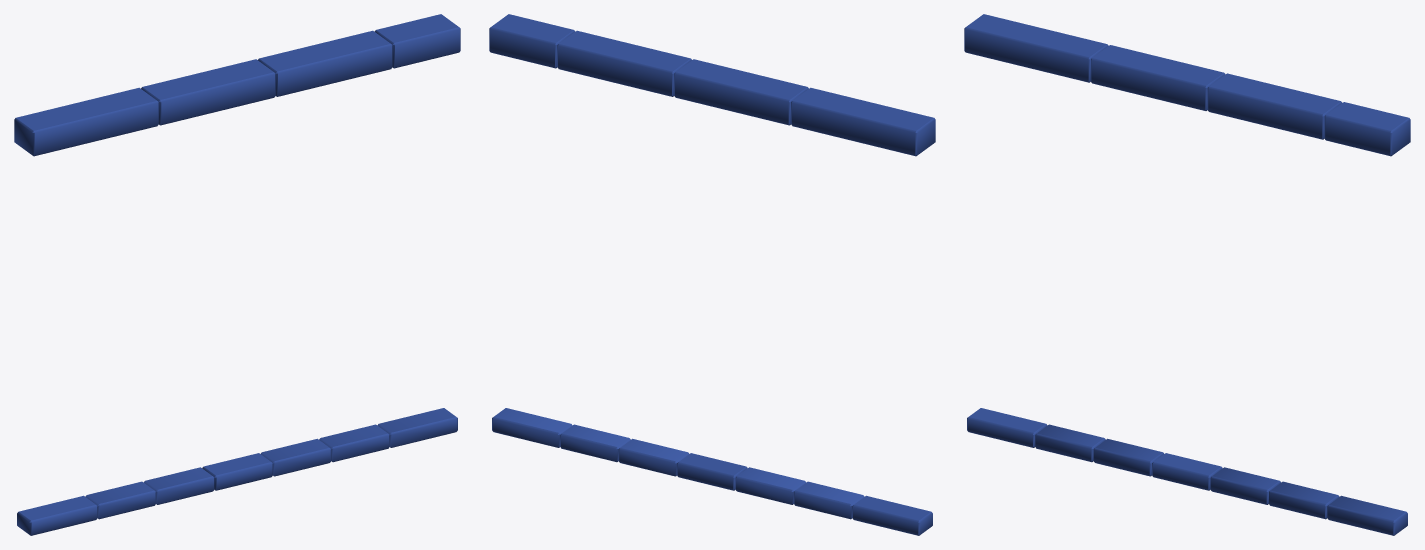
The model's file is wall_2.fbx.
3 views of the same model, side by side, from view 1: azimuth 30°, elevation 25°; view 2: azimuth 150°, elevation 25°; view 3: azimuth 330°, elevation 25° (orthographic).
Parts seen in each view (by area): view 1: wall_2; view 2: wall_2; view 3: wall_2.
Boxes of the visible parts, x1,y1,x2,y2 form: wall_2: (14,14,460,535); wall_2: (489,14,935,535); wall_2: (964,14,1410,535).
Bounding box in the file's own units: 173 × 157 × 13.78.
